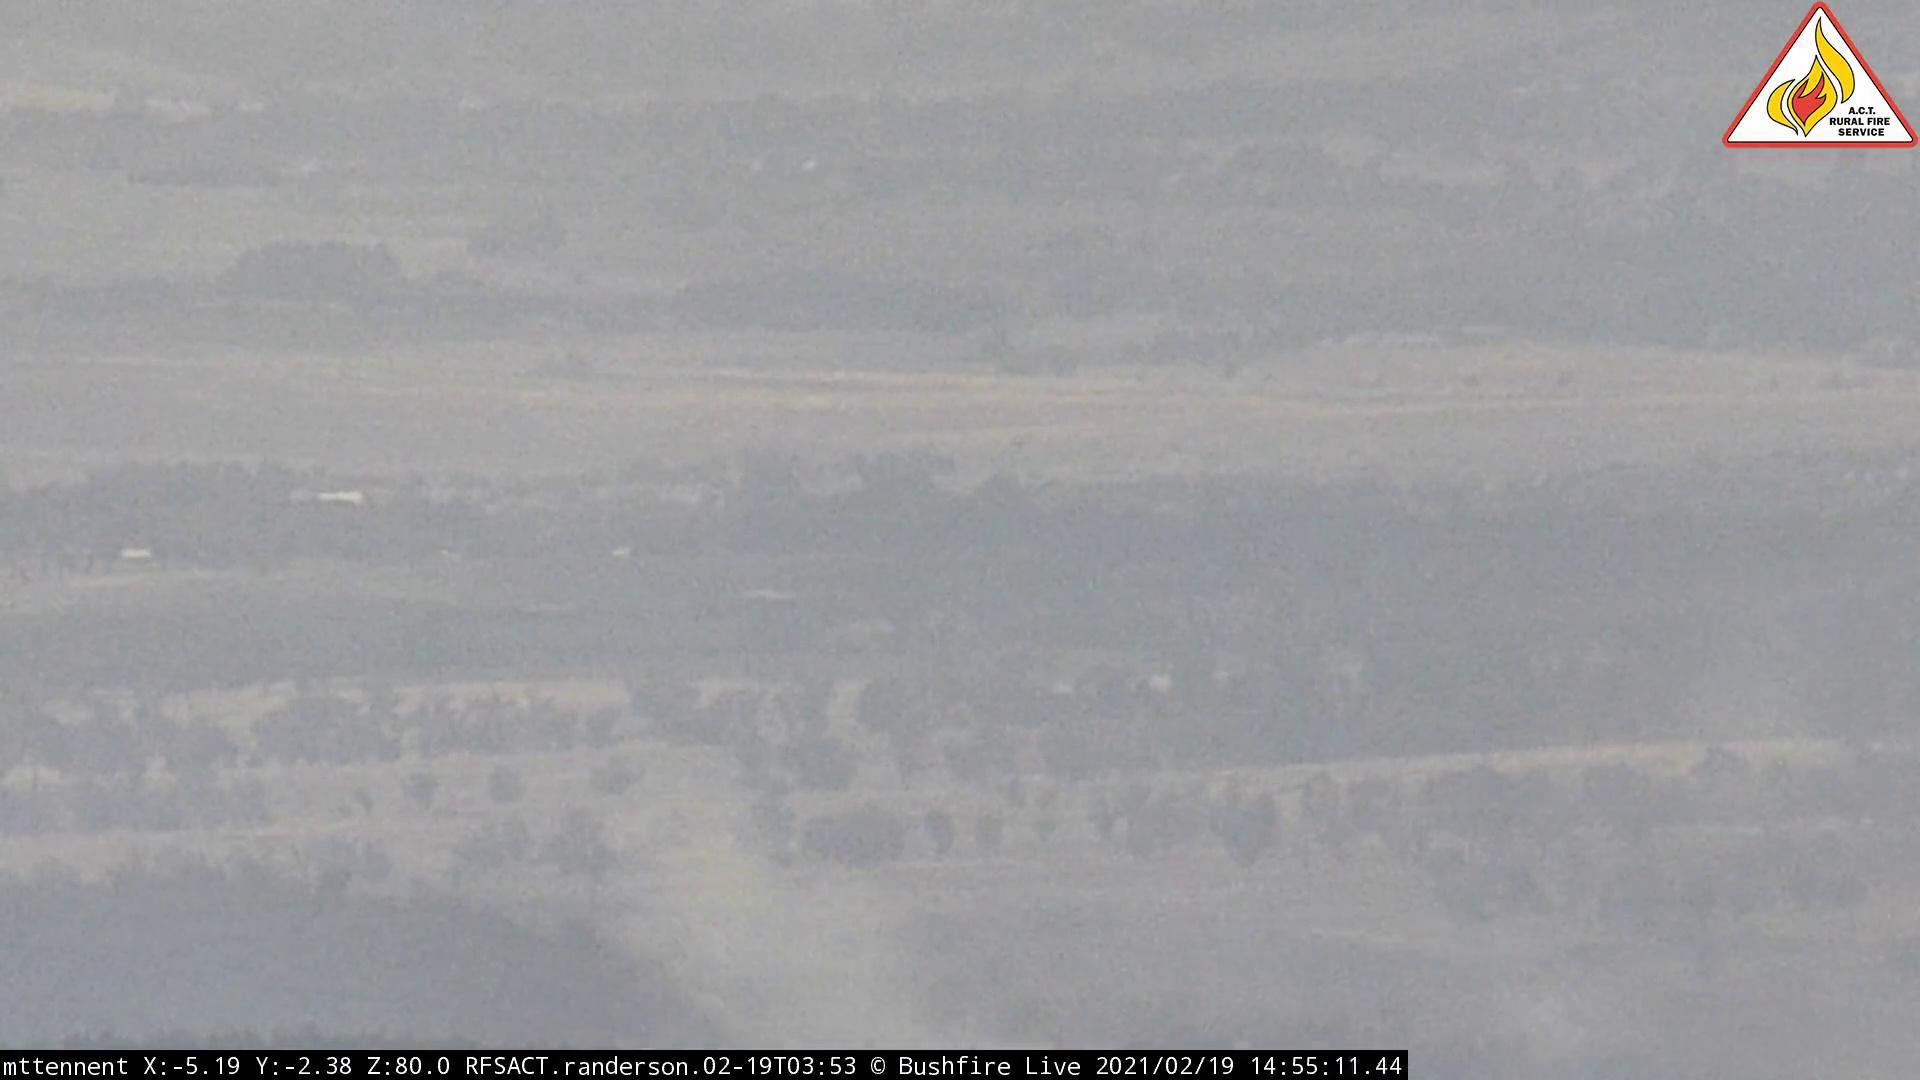instance_salient_object: (611, 796, 952, 1048)
